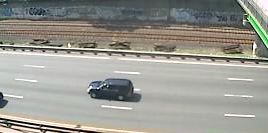car: (87, 76, 138, 103)
